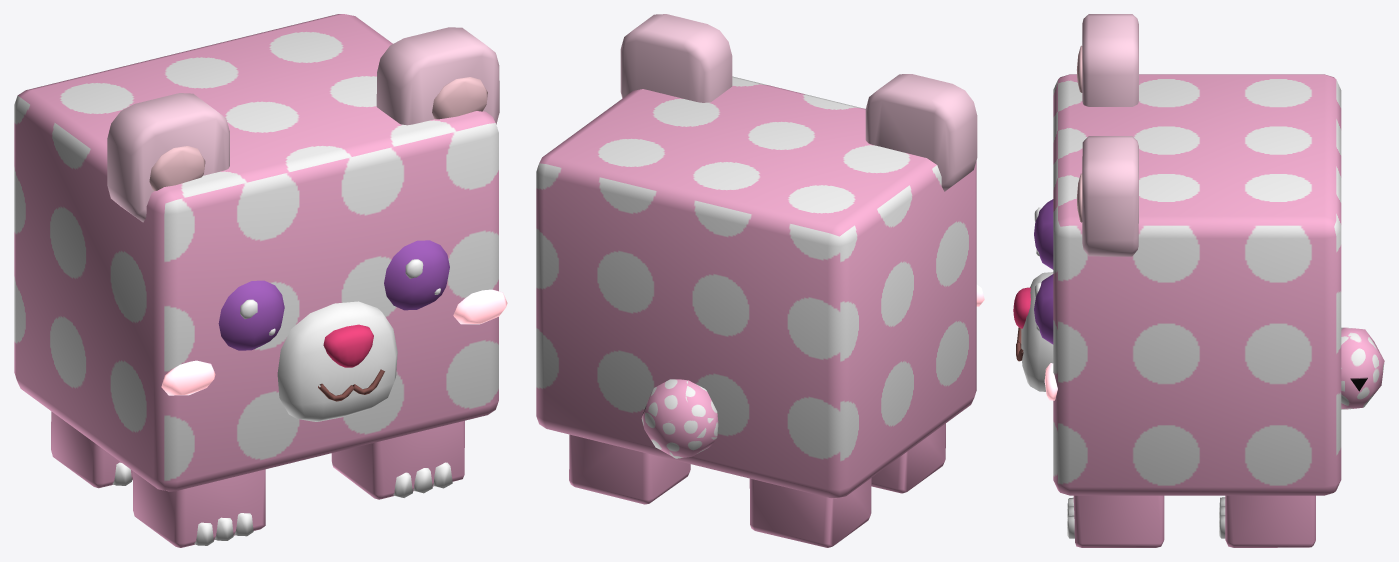
The model's file is Bear_Zuckerbaer.fbx.
The picture shows the model from 3 angles, left to right: view 1: azimuth 30°, elevation 25°; view 2: azimuth 150°, elevation 25°; view 3: azimuth 270°, elevation 25°; orthographic projection. The views are drawn at different scales.
Parts seen in each view (by area): view 1: Zuckerbaer_body, Zuckerbaer_ears, Zuckerbaer_feet, Zuckerbaer_muzzle, Zuckerbaer_eyes, Bear_Zuckerbaer, Zuckerbaer_toes, Bear_Zuckerbaer_cute_innerear_-1, Zuckerbaer_nose, Bear_Zuckerbaer_cute_blush_-1; view 2: Zuckerbaer_body, Zuckerbaer_ears, Zuckerbaer_feet, Bear_Zuckerbaer_cute_tail; view 3: Zuckerbaer_body, Zuckerbaer_ears, Zuckerbaer_feet, Bear_Zuckerbaer_cute_tail, Zuckerbaer_eyes, Zuckerbaer_muzzle, Bear_Zuckerbaer, Zuckerbaer_toes, Zuckerbaer_nose.
Part boxes in pixels (x1,y1,x2,y2): Zuckerbaer_body: (14, 14, 498, 491); Zuckerbaer_ears: (107, 27, 499, 222); Zuckerbaer_feet: (51, 411, 464, 547); Zuckerbaer_muzzle: (277, 301, 397, 421); Zuckerbaer_eyes: (218, 240, 449, 350); Bear_Zuckerbaer: (405, 77, 507, 324); Zuckerbaer_toes: (112, 462, 452, 545); Bear_Zuckerbaer_cute_innerear_-1: (149, 146, 205, 191); Zuckerbaer_nose: (323, 324, 373, 367); Bear_Zuckerbaer_cute_blush_-1: (161, 360, 215, 395); Zuckerbaer_body: (536, 76, 976, 498); Zuckerbaer_ears: (620, 14, 977, 191); Zuckerbaer_feet: (569, 423, 945, 547); Bear_Zuckerbaer_cute_tail: (641, 379, 718, 458); Zuckerbaer_body: (1053, 74, 1341, 495); Zuckerbaer_ears: (1082, 14, 1138, 256); Zuckerbaer_feet: (1073, 495, 1315, 547); Bear_Zuckerbaer_cute_tail: (1341, 327, 1384, 409); Zuckerbaer_eyes: (1034, 199, 1053, 344); Zuckerbaer_muzzle: (1021, 272, 1053, 391); Bear_Zuckerbaer: (1034, 173, 1082, 400); Zuckerbaer_toes: (1067, 497, 1225, 538); Zuckerbaer_nose: (1013, 287, 1030, 328).
Size of the model in its own units: 2.35 by 2.61 by 2.21.
Materials: 12 (2 with a texture image).
